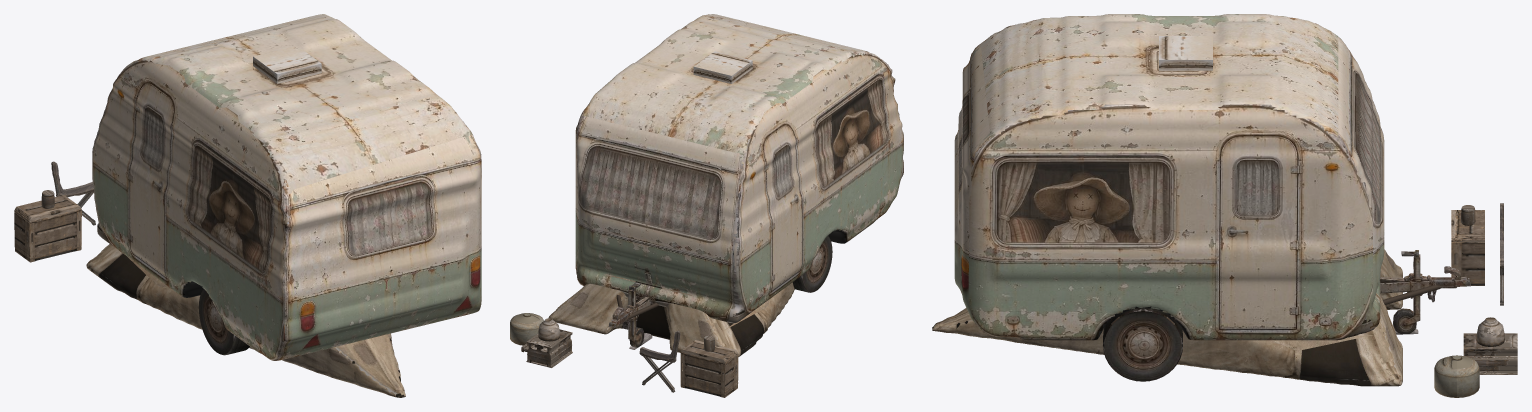
Rendered from peace-camp.glb.
3 renders of one model, left to right at view 1: azimuth 30°, elevation 25°; view 2: azimuth 150°, elevation 25°; view 3: azimuth 270°, elevation 25°, orthographic. The views are drawn at different scales.
Visible parts, largest first — view 1: mirage-caravan:body, mirage-camp:tent, mirage-camp:crate, mirage-caravan:roof-vent, mirage-caravan:wheel-road, mirage-camp:chair; view 2: mirage-caravan:body, mirage-camp:tent, mirage-camp:crate, mirage-caravan:roof-vent, mirage-caravan:traced-tow-bar, mirage-camp:stove, mirage-caravan:wheel-road, mirage-camp:water-can, mirage-camp:chair, mirage-camp:kettle; view 3: mirage-caravan:body, mirage-camp:tent, mirage-caravan:wheel-far, mirage-caravan:traced-tow-bar, mirage-camp:crate, mirage-caravan:roof-vent, mirage-camp:water-can, mirage-camp:stove, mirage-camp:kettle.
Part boxes in pixels (x1,y1,x2,y2): mirage-caravan:body: (92, 14, 481, 360); mirage-camp:tent: (86, 244, 405, 397); mirage-camp:crate: (14, 195, 81, 262); mirage-caravan:roof-vent: (253, 46, 321, 83); mirage-caravan:wheel-road: (198, 289, 249, 355); mirage-camp:chair: (51, 161, 95, 225); mirage-caravan:body: (575, 14, 903, 323); mirage-camp:tent: (548, 274, 794, 356); mirage-camp:crate: (680, 340, 738, 397); mirage-caravan:roof-vent: (693, 51, 752, 83); mirage-caravan:traced-tow-bar: (608, 273, 652, 349); mirage-camp:stove: (521, 329, 572, 367); mirage-caravan:wheel-road: (792, 236, 832, 292); mirage-camp:water-can: (510, 313, 543, 345); mirage-camp:chair: (639, 330, 680, 392); mirage-camp:kettle: (538, 318, 559, 341); mirage-caravan:body: (954, 14, 1384, 340); mirage-camp:tent: (932, 249, 1402, 386); mirage-caravan:wheel-far: (1103, 308, 1182, 381); mirage-caravan:traced-tow-bar: (1380, 250, 1470, 334); mirage-camp:crate: (1451, 210, 1484, 285); mirage-caravan:roof-vent: (1159, 36, 1212, 70); mirage-camp:water-can: (1434, 355, 1479, 397); mirage-camp:stove: (1463, 333, 1517, 374); mirage-camp:kettle: (1476, 317, 1504, 346).
Size of the model in its own units: 2.96 by 2.79 by 5.2.
16 materials, 14 textured.
